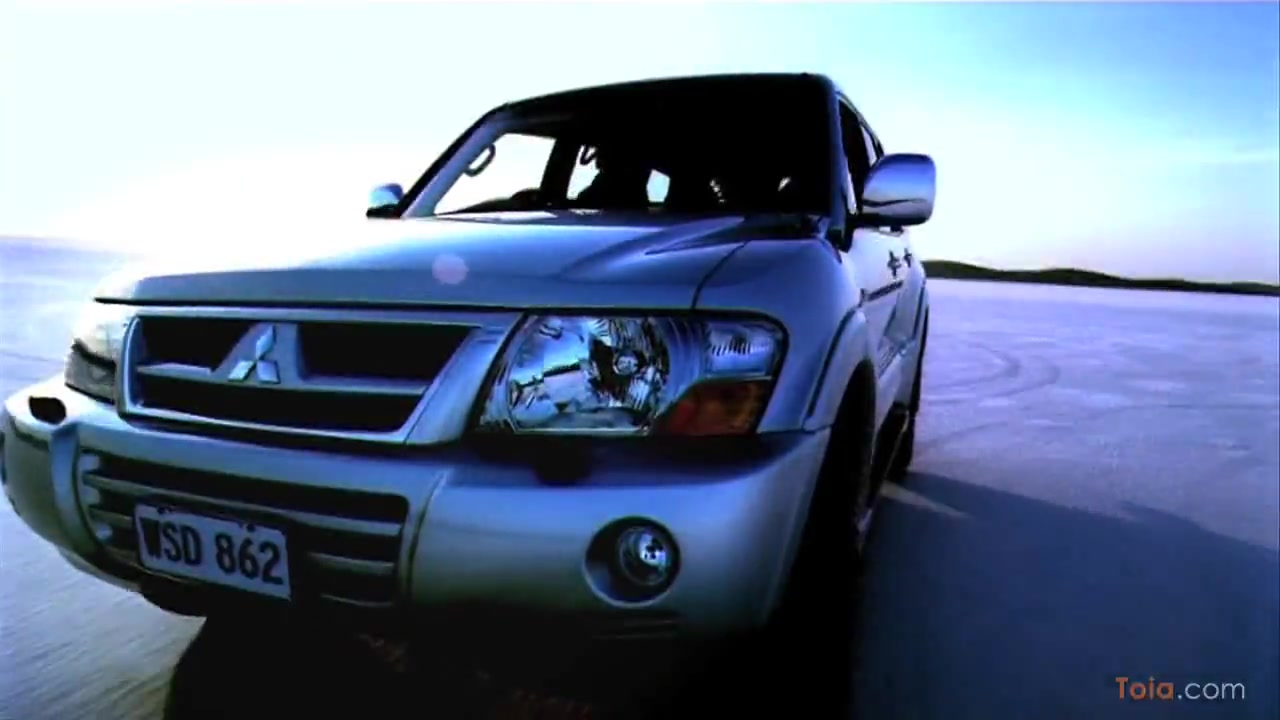car: (4, 70, 939, 676)
